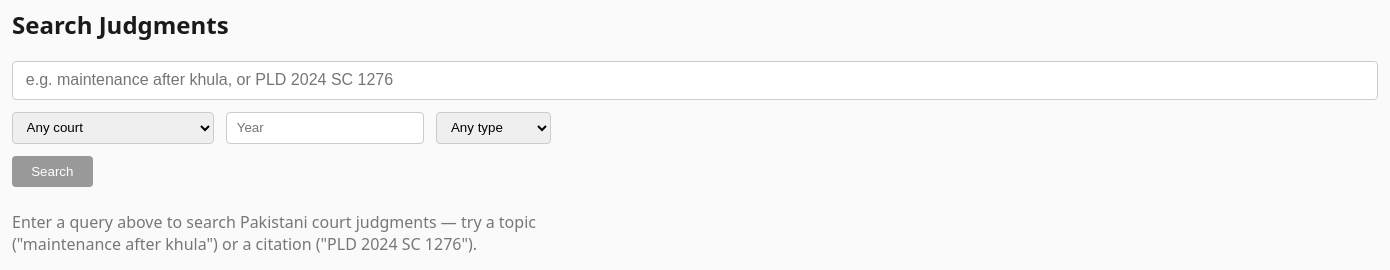
Test: empty-state hint disappears once a search has been made
This screenshot has width=1390, height=270.
Type "test" into the field named "Search query" at (695, 80), box [12,61,1378,100]
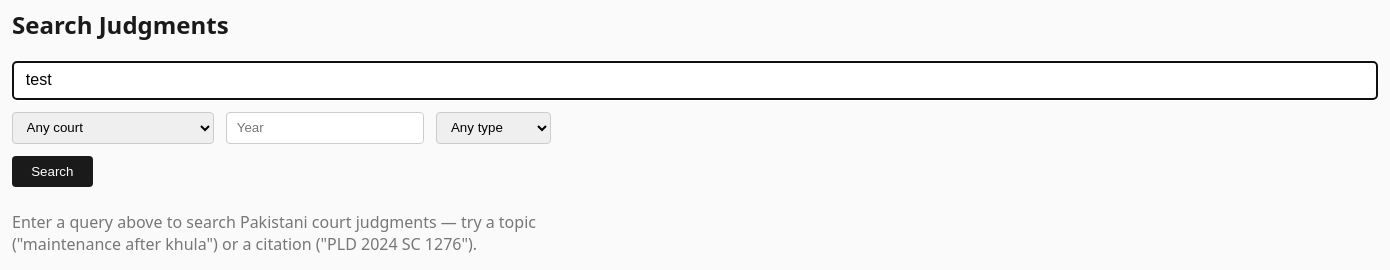
Click the button "Search" at (52, 171), box [12,156,93,187]
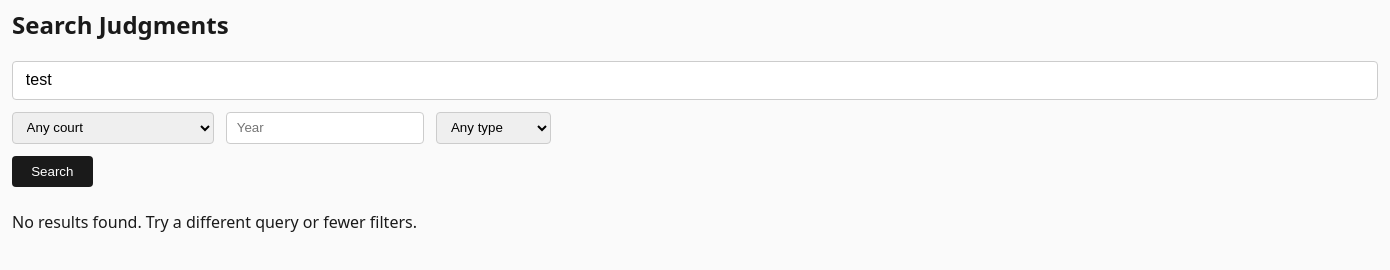
Now the text "No results found. Try a different query or fewer filters." is shown, box [12,211,417,233]
Now the text "Enter a query above to search" is gone
